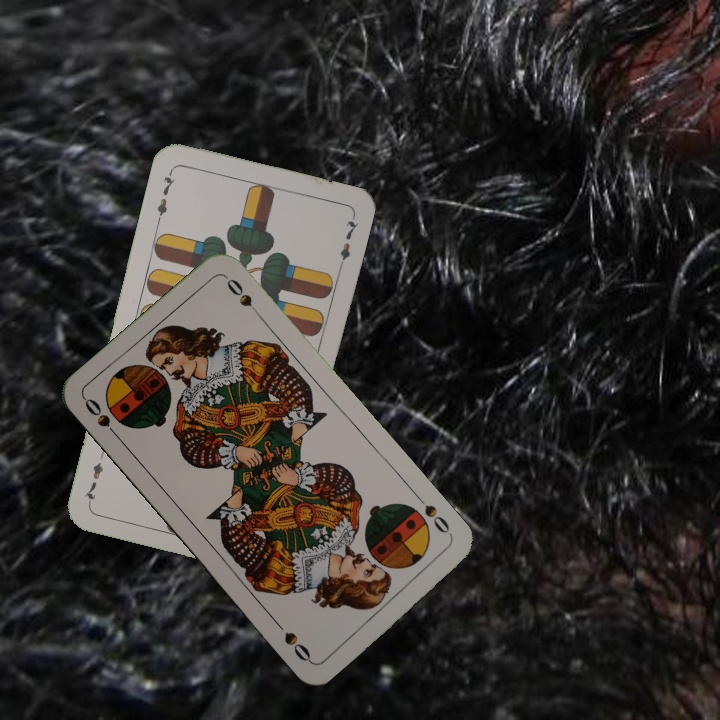E7: (153, 165, 178, 224)
SO: (80, 394, 124, 444), (420, 500, 456, 541)
